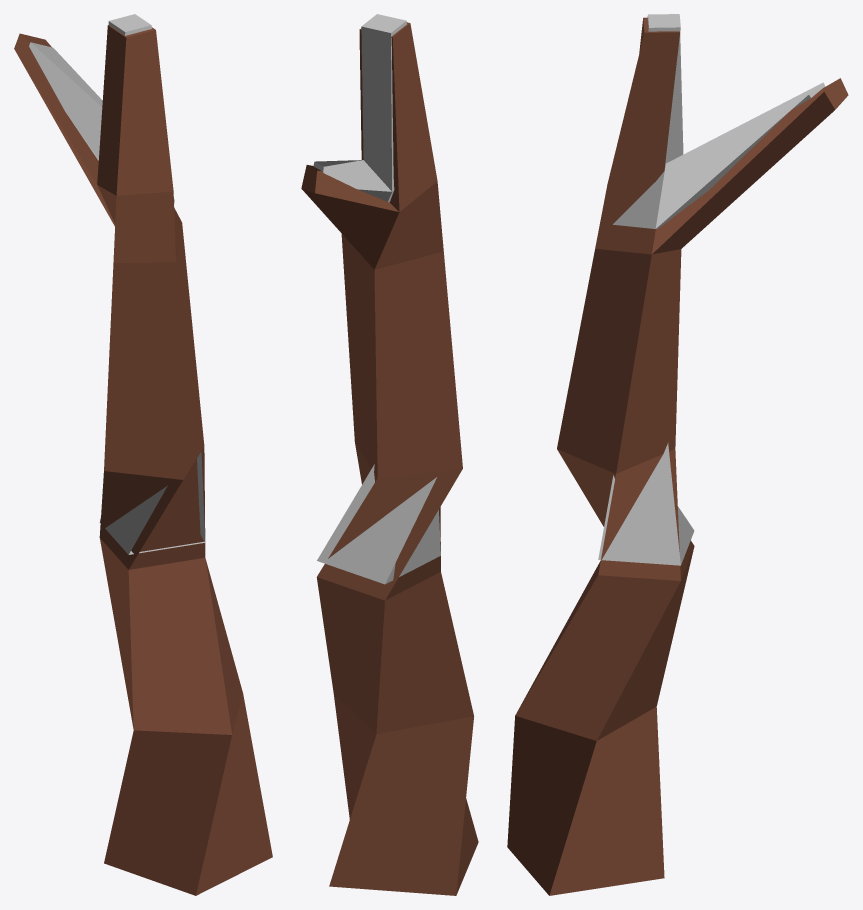
Rendered from Tree_14_winter_vc.fbx.
3 views of the same model, side by side, from view 1: azimuth 30°, elevation 25°; view 2: azimuth 150°, elevation 25°; view 3: azimuth 270°, elevation 25° (orthographic). The views are drawn at different scales.
Parts seen in each view (by area): view 1: Tree_14_winter_vc; view 2: Tree_14_winter_vc; view 3: Tree_14_winter_vc.
Part boxes in pixels (bbox=[...]): Tree_14_winter_vc: bbox=[14, 14, 272, 895]; Tree_14_winter_vc: bbox=[301, 14, 478, 895]; Tree_14_winter_vc: bbox=[507, 14, 848, 895].
Size of the model in its own units: 0.7007 by 4 by 1.49.
